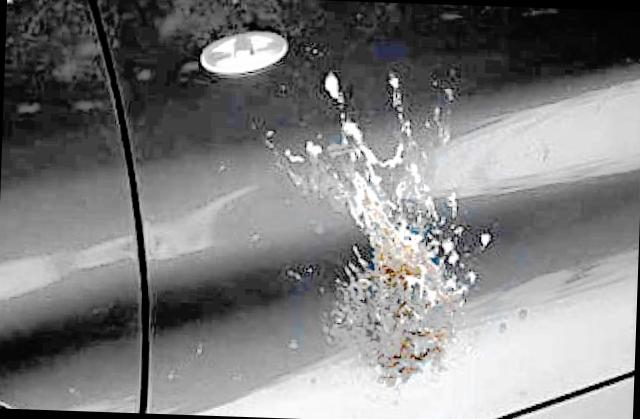Bird Poop: (278, 73, 475, 387), (424, 88, 452, 146)
